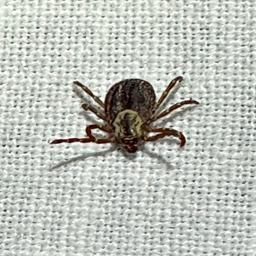Dermacentor variabilis: (49, 75, 198, 156)
